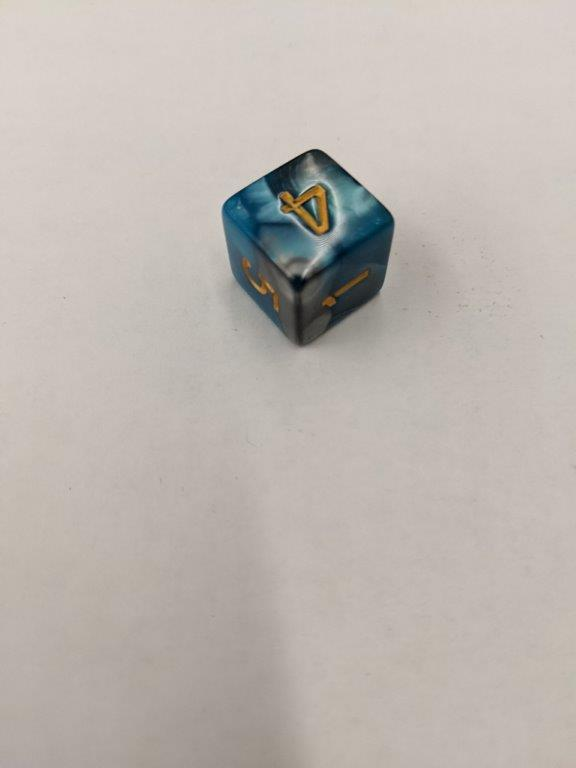d6-4: (221, 151, 392, 342)
